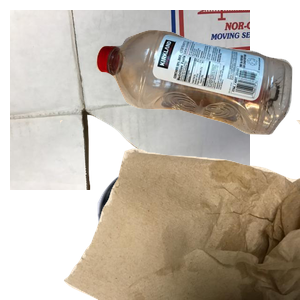cardboard: (10, 10, 250, 190)
glass: (95, 164, 286, 300)
plastic: (93, 27, 300, 154)
trash: (60, 120, 300, 300)
